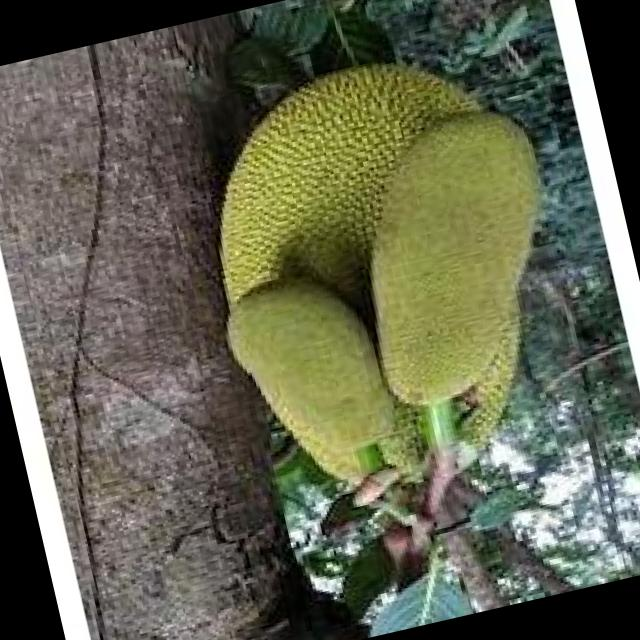Fruit: (259, 0, 612, 456)
